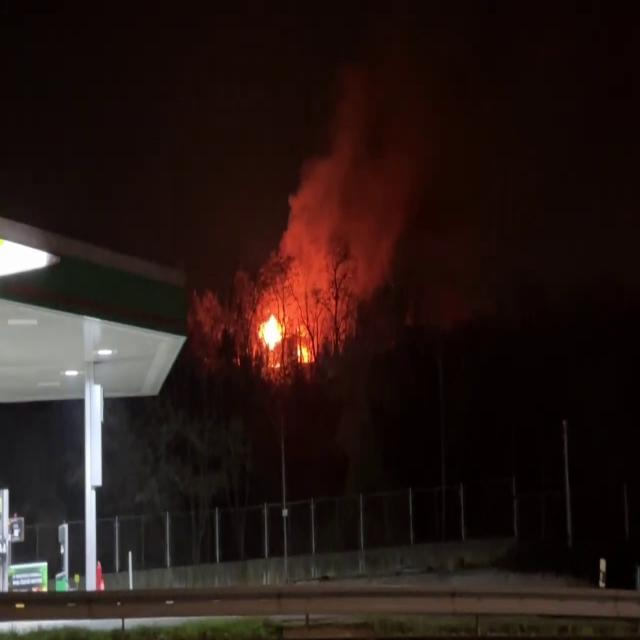Fire: (252, 294, 314, 370)
Smoke: (268, 13, 469, 306)
